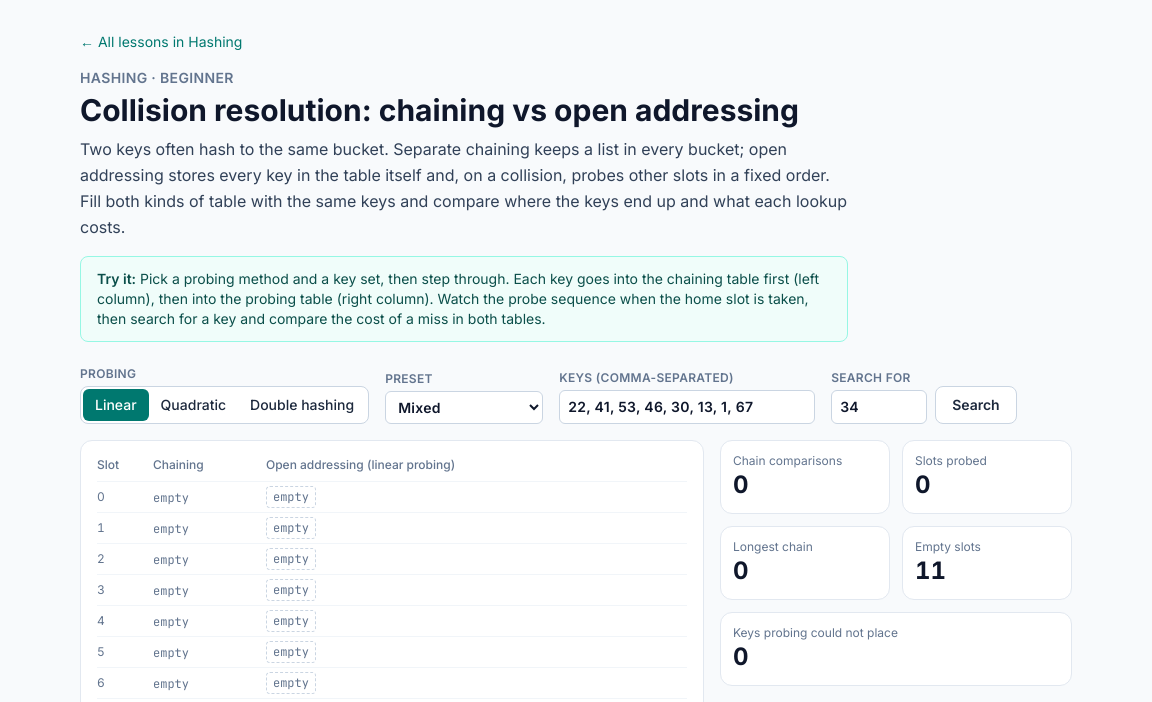
Test case: collision resolution lesson › says a search was cleared when the method changes
What coordinates should you click on to do the following:
click the button "Search"
I would click on:
 (976, 405)
Its box is [935,386,1017,424].
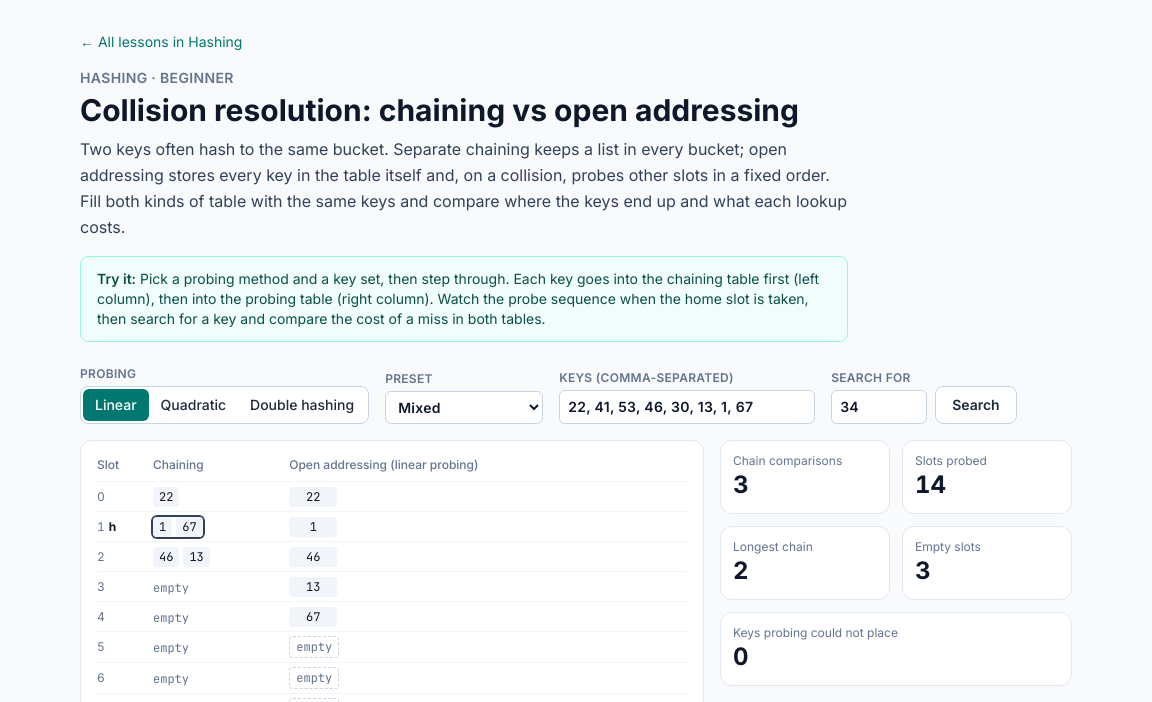
What coordinates should you click on to do the following:
click the radio button labelled "Double hashing"
I would click on:
 (302, 404)
Its box is [250,396,354,413].
(page scrolled)
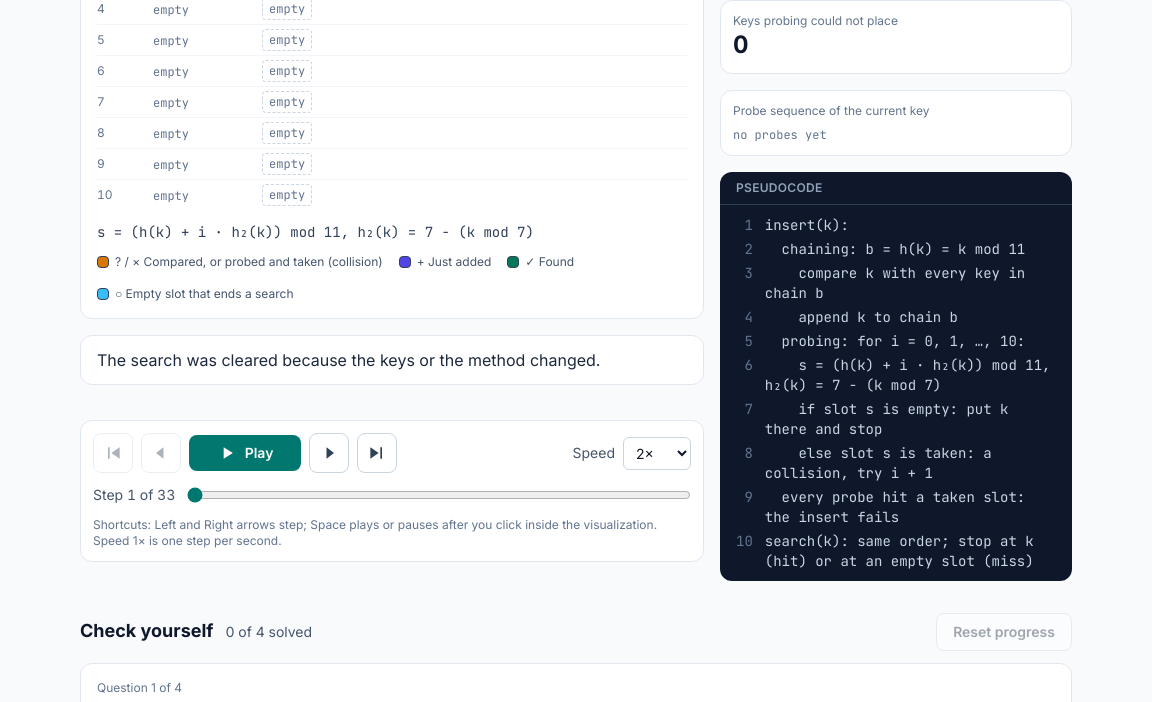
Expected: the text "The search was cleared because the keys or the method changed." is shown, [80,335,704,385]
Expected: the text "Step 1 of" is shown, [93,486,175,503]
